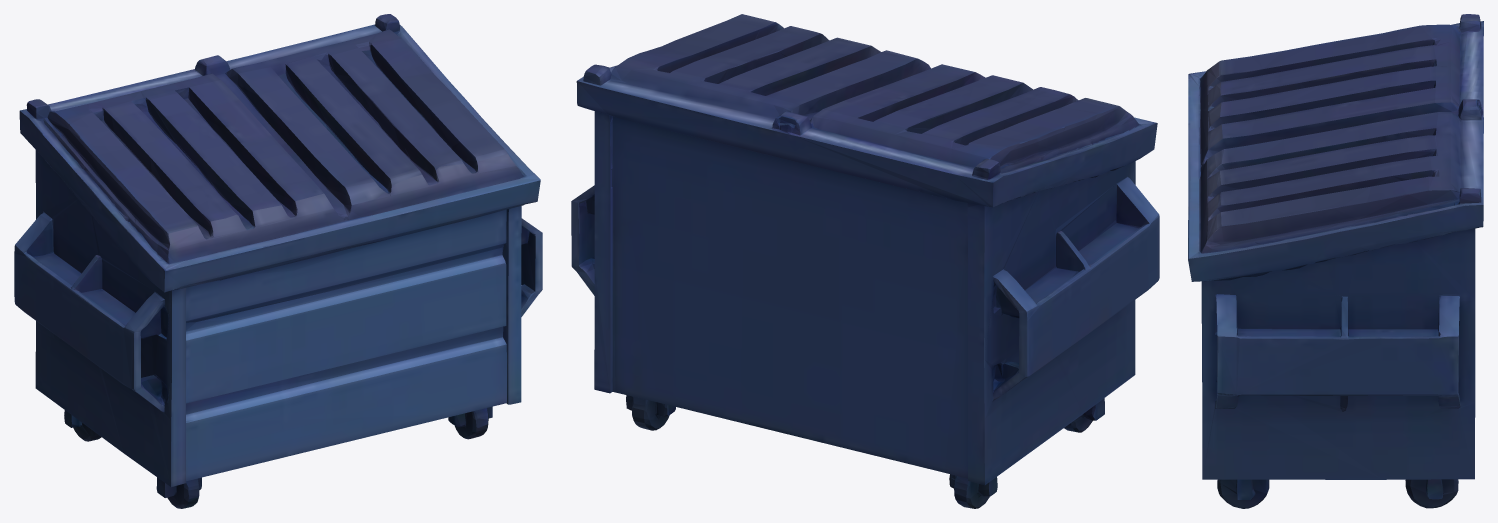
The model's file is prop_dumpster.glb.
3 views of the same model, side by side, from view 1: azimuth 30°, elevation 25°; view 2: azimuth 150°, elevation 25°; view 3: azimuth 270°, elevation 25° (orthographic). The views are drawn at different scales.
Visible parts, largest first — view 1: groundshift; view 2: groundshift; view 3: groundshift.
Boxes of the visible parts, x1=… form: groundshift: x1=14, y1=14, x2=542, y2=508; groundshift: x1=571, y1=14, x2=1159, y2=508; groundshift: x1=1188, y1=14, x2=1483, y2=508.
Size of the model in its own units: 1.75 by 1.35 by 1.08.
Materials: 1 (1 with a texture image).
